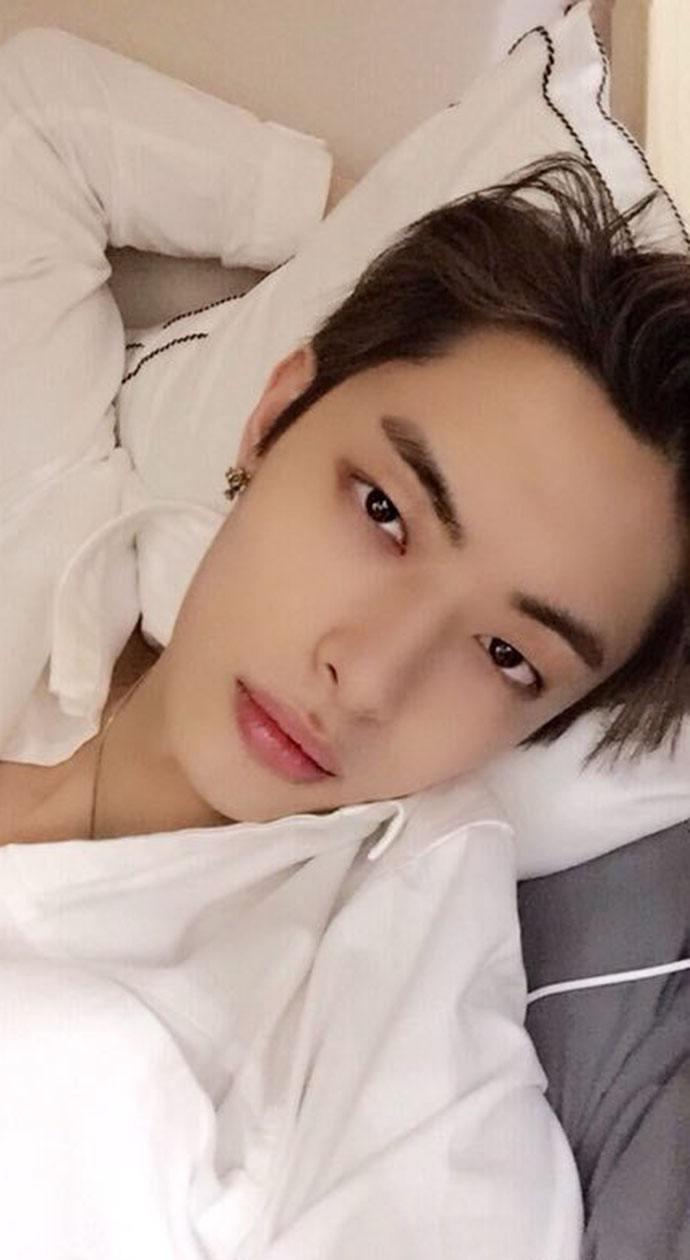person: (114, 159, 659, 874)
